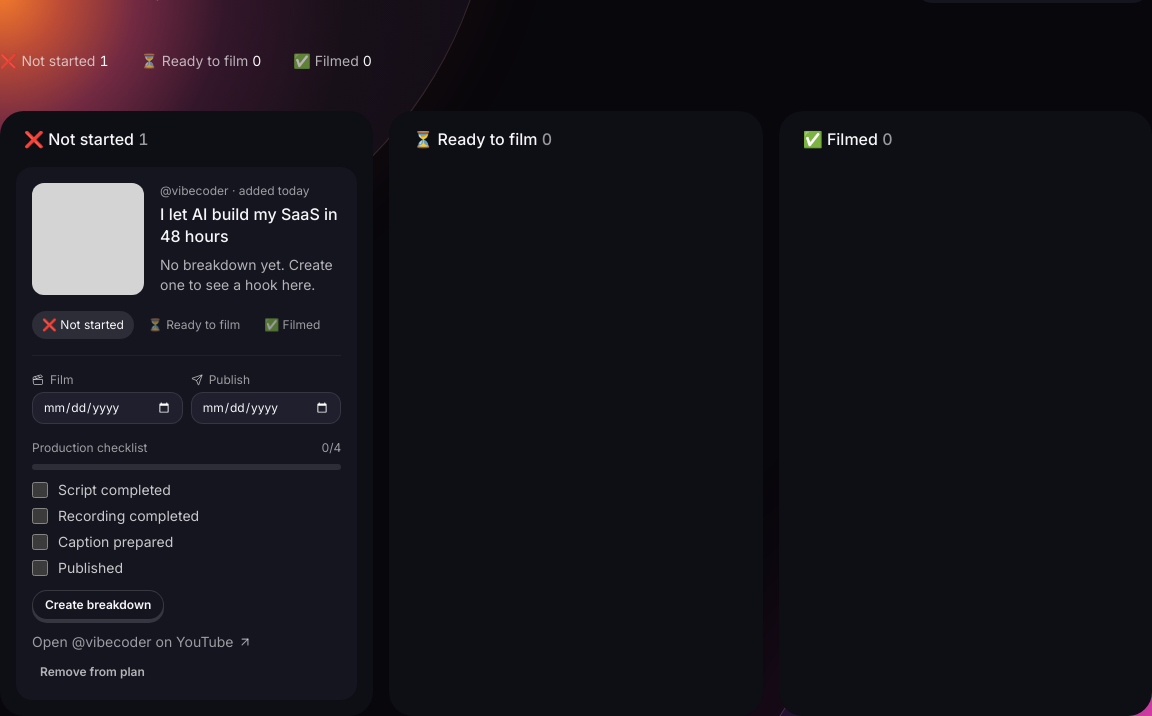
Test: bugs #49 and #52 › confirms before removing a Content Plan item, and Cancel keeps it
(page scrolled)
What coordinates should you click on to do the following:
click the button "Remove from plan"
I would click on:
 (92, 672)
Its box is left=32, top=660, right=153, bottom=684.
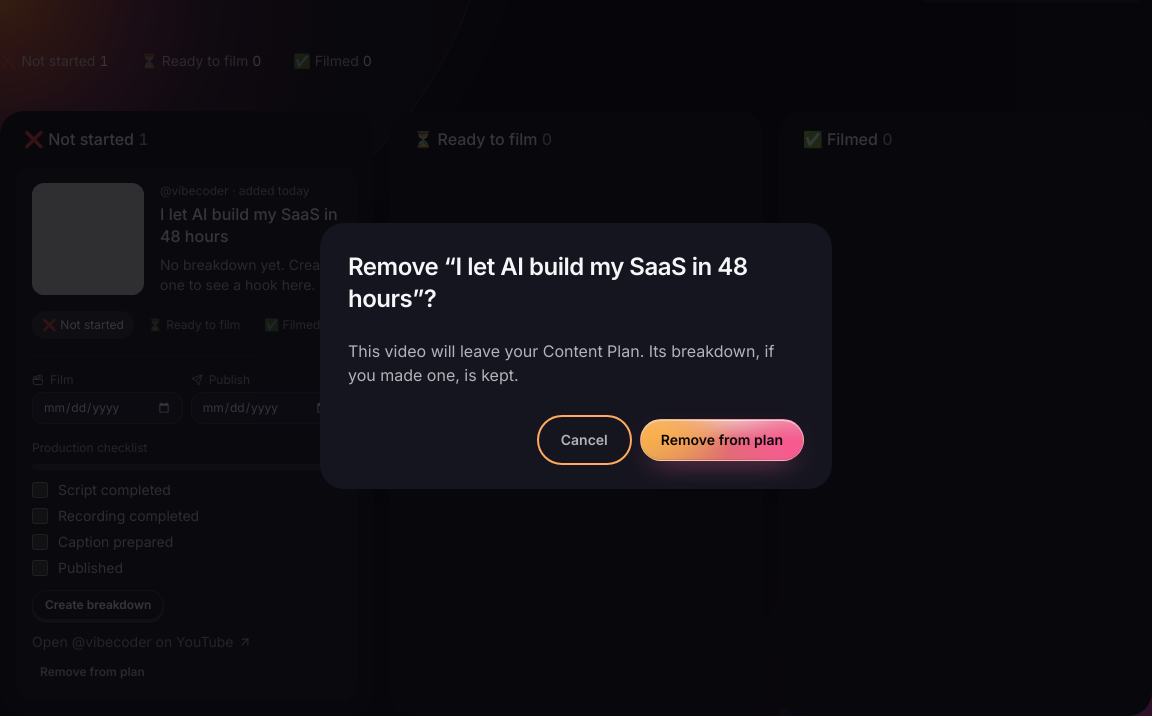
Expected: the dialog shows "I let AI build my SaaS in 48 hours", left=348, top=252, right=748, bottom=313
What coordinates should you click on to do the following:
click the button "Cancel"
I would click on:
 (584, 440)
Its box is left=541, top=419, right=628, bottom=461.
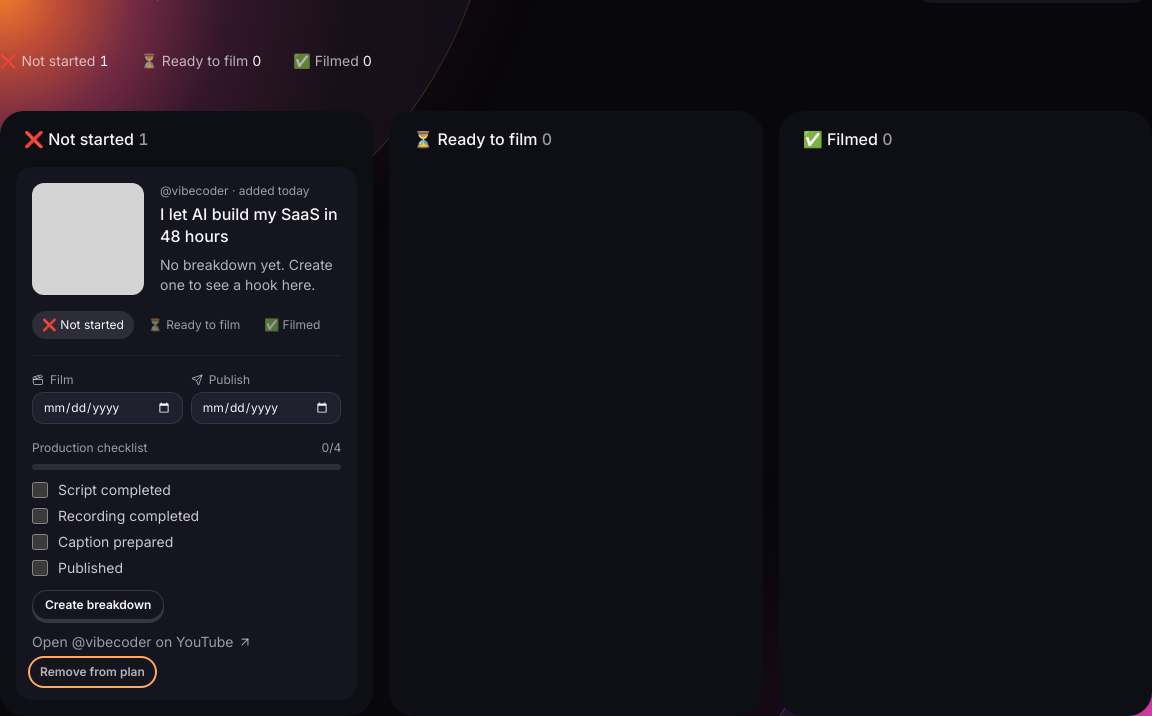
Expected: the dialog is gone
